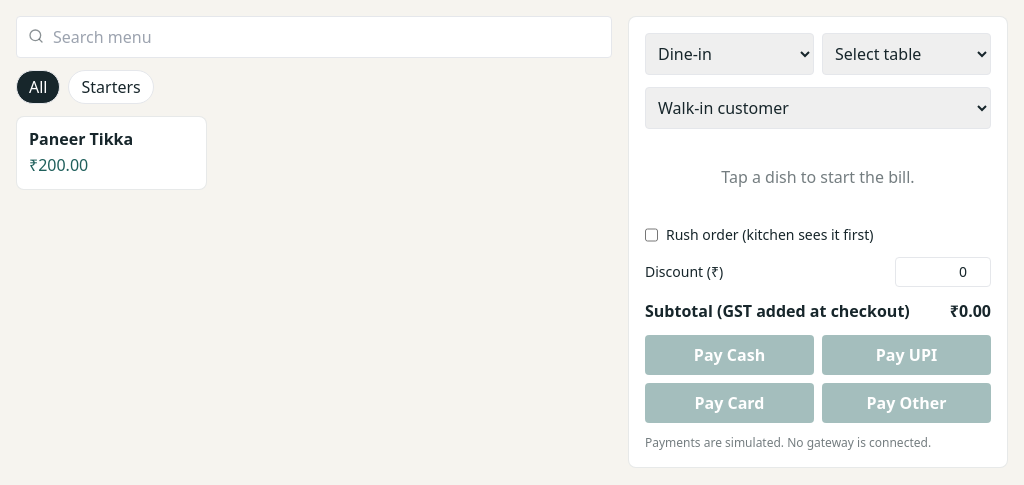
it: Billing screen › lists only available dishes and filters by search
The image size is (1024, 485).
Check: the text "Paneer Tikka" is shown, box [29,128,133,150]
Type "zzz" into the field labelled "Search menu" at (314, 37), box [16,16,612,58]
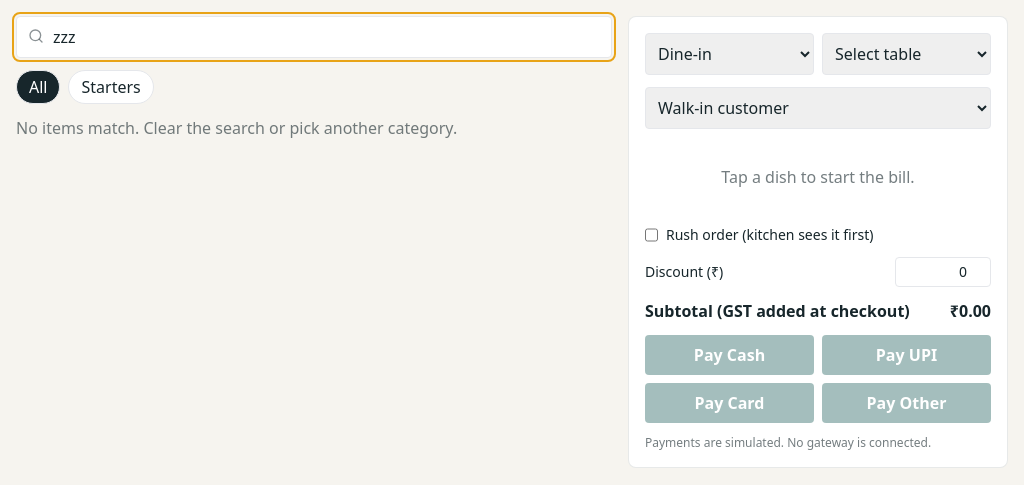
Check: the text "No items match. Clear the search or pick another category." is shown, box [16,117,457,139]
